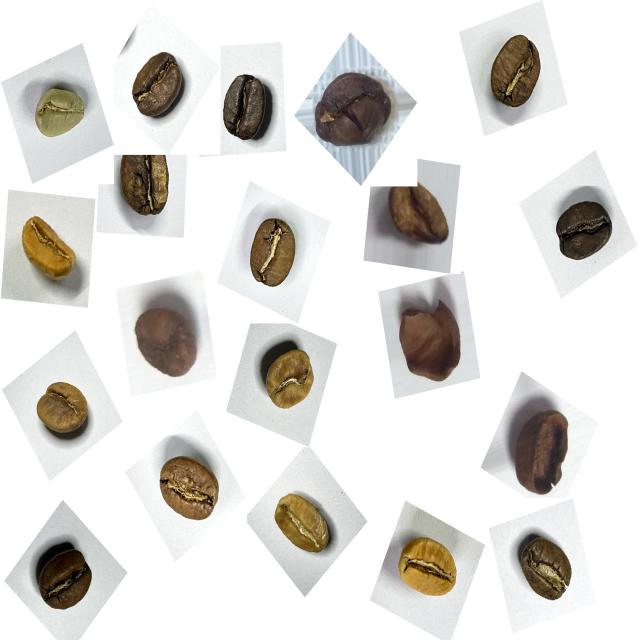bad: (498, 387, 584, 505), (386, 284, 472, 396), (308, 59, 399, 160), (124, 286, 205, 391), (381, 172, 456, 255)
dark: (544, 186, 621, 276), (212, 66, 280, 147)
green: (25, 76, 93, 150)
light: (387, 519, 468, 613), (248, 328, 325, 424), (12, 200, 88, 296), (259, 480, 339, 567), (24, 366, 100, 454)
medium: (148, 440, 232, 536), (478, 23, 558, 123), (121, 40, 197, 132), (28, 534, 103, 625), (238, 210, 307, 303), (510, 527, 582, 614), (118, 152, 175, 222)
